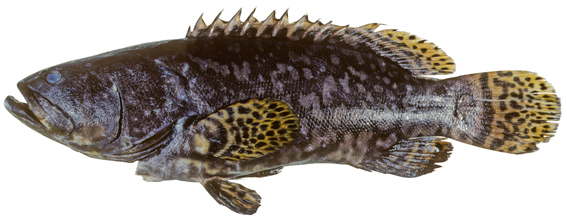fish: (4, 6, 561, 215)
